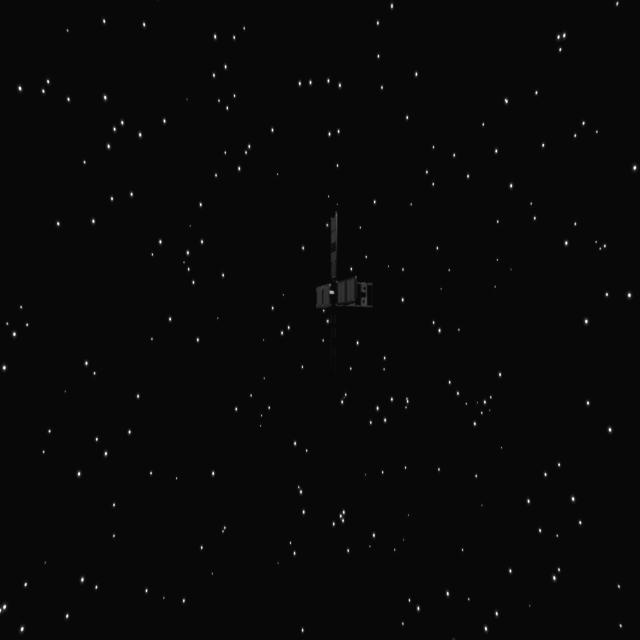medium_debris: (283, 202, 381, 346)
